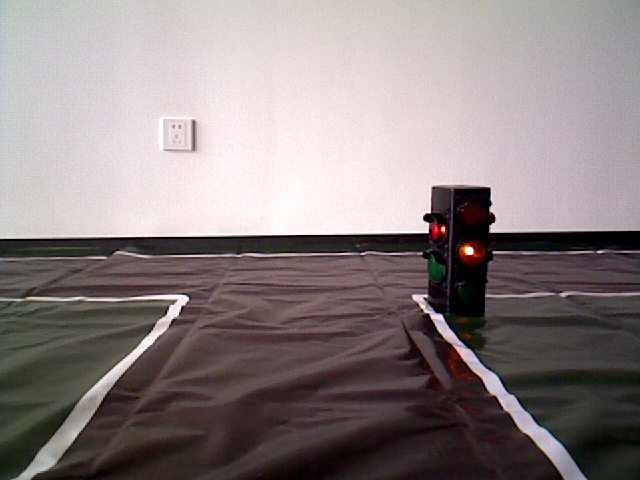yellow: (436, 191, 485, 305)
